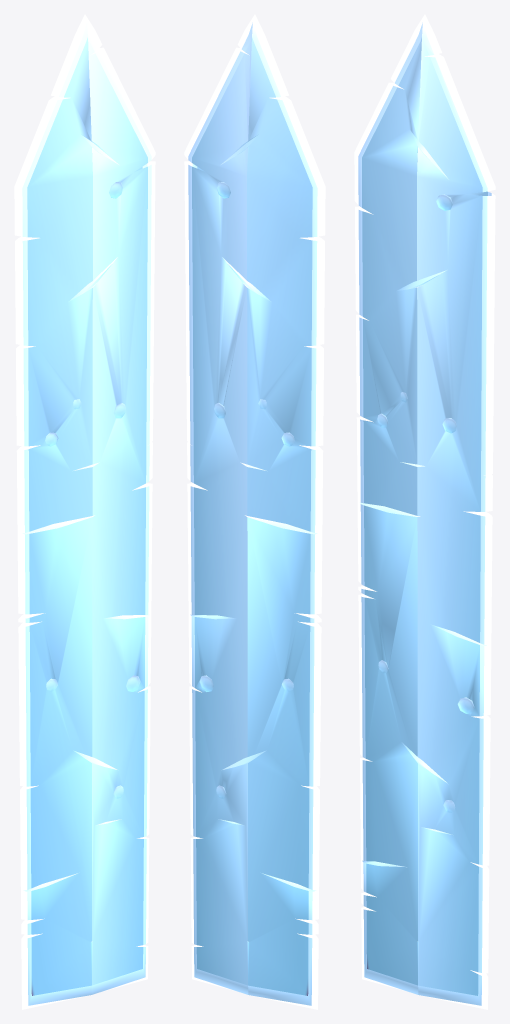
File: steel_blade_bubbles_048.glb
3 renders of one model, left to right at view 1: azimuth 30°, elevation 25°; view 2: azimuth 150°, elevation 25°; view 3: azimuth 330°, elevation 25°, orthographic.
Parts seen in each view (by area): view 1: steel_blade_bubbles.048; view 2: steel_blade_bubbles.048; view 3: steel_blade_bubbles.048.
Boxes of the visible parts, bbox=[...] form: steel_blade_bubbles.048: bbox=[14, 14, 155, 1009]; steel_blade_bubbles.048: bbox=[184, 14, 325, 1009]; steel_blade_bubbles.048: bbox=[354, 14, 495, 1009].
Bounding box in the file's own units: 1.71 × 11.4 × 0.3369.
Materials: 1 (1 with a texture image).
